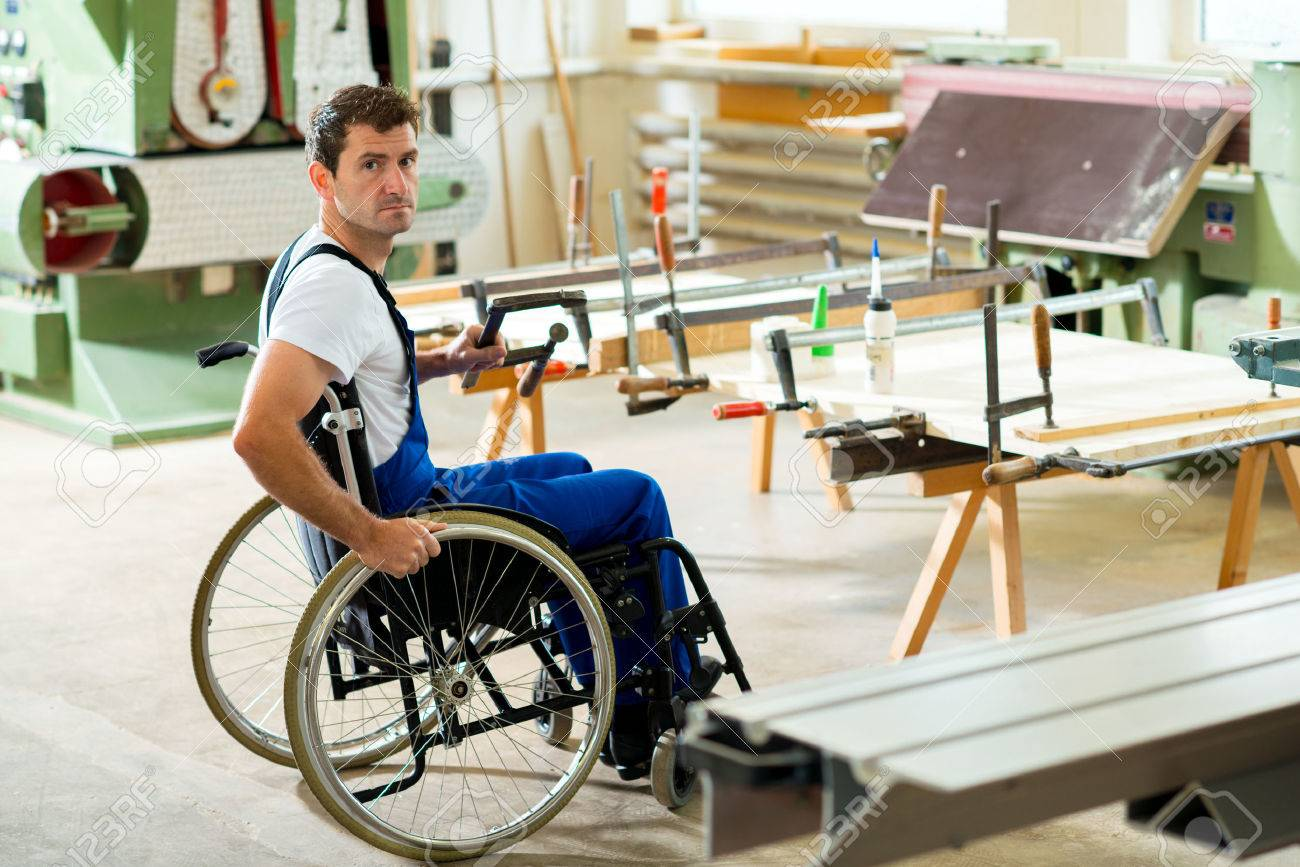wheelchair: (190, 85, 703, 857)
